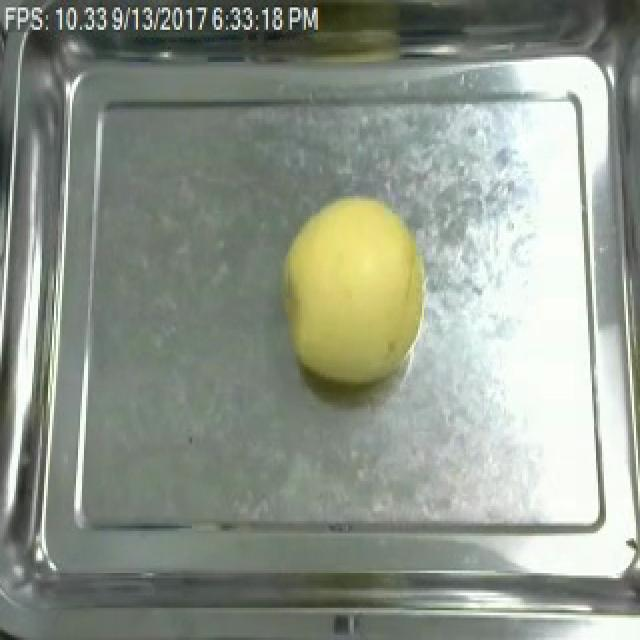Fruit: (272, 186, 436, 392)
